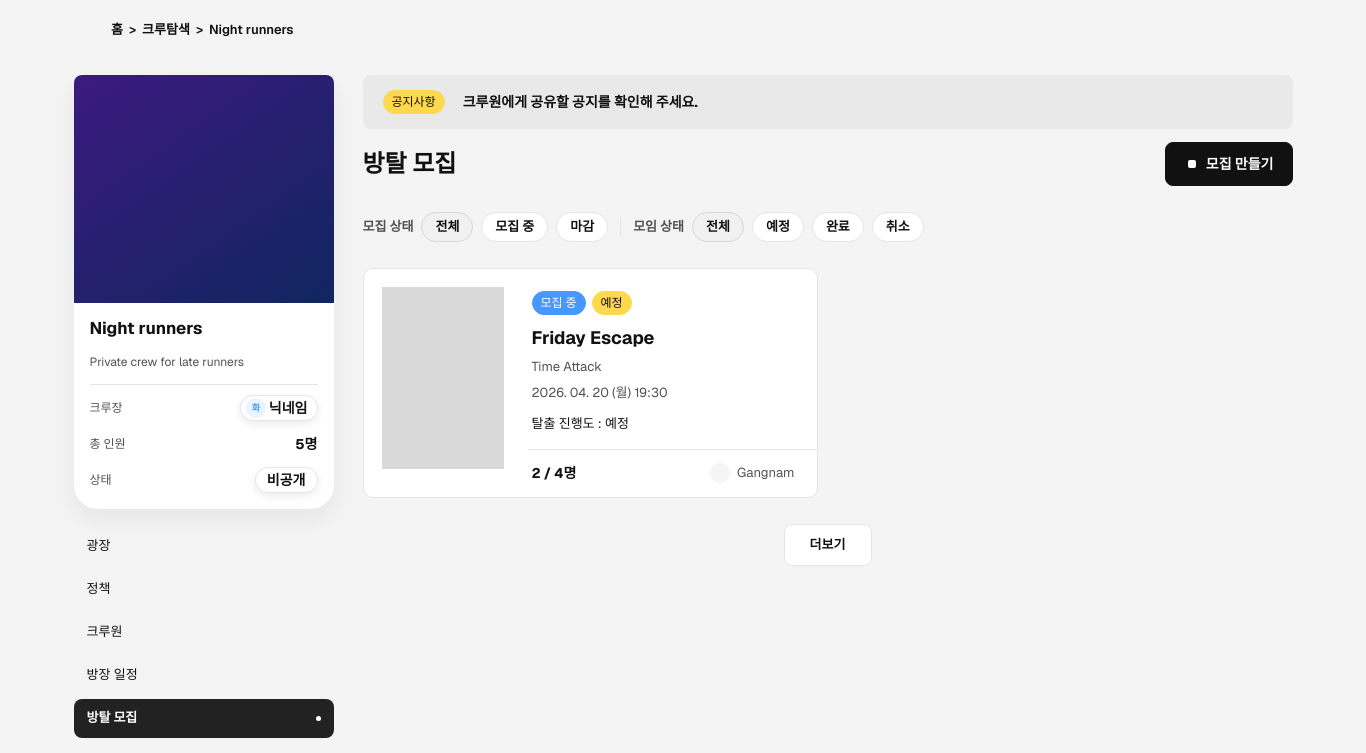
MeetingsPage › loads the next meeting page and keeps the existing items
The image size is (1366, 753).
Expected: the link "Friday Escape" is shown, [532, 326, 654, 349]
Click the button "더보기" at (828, 545), box [784, 524, 872, 566]
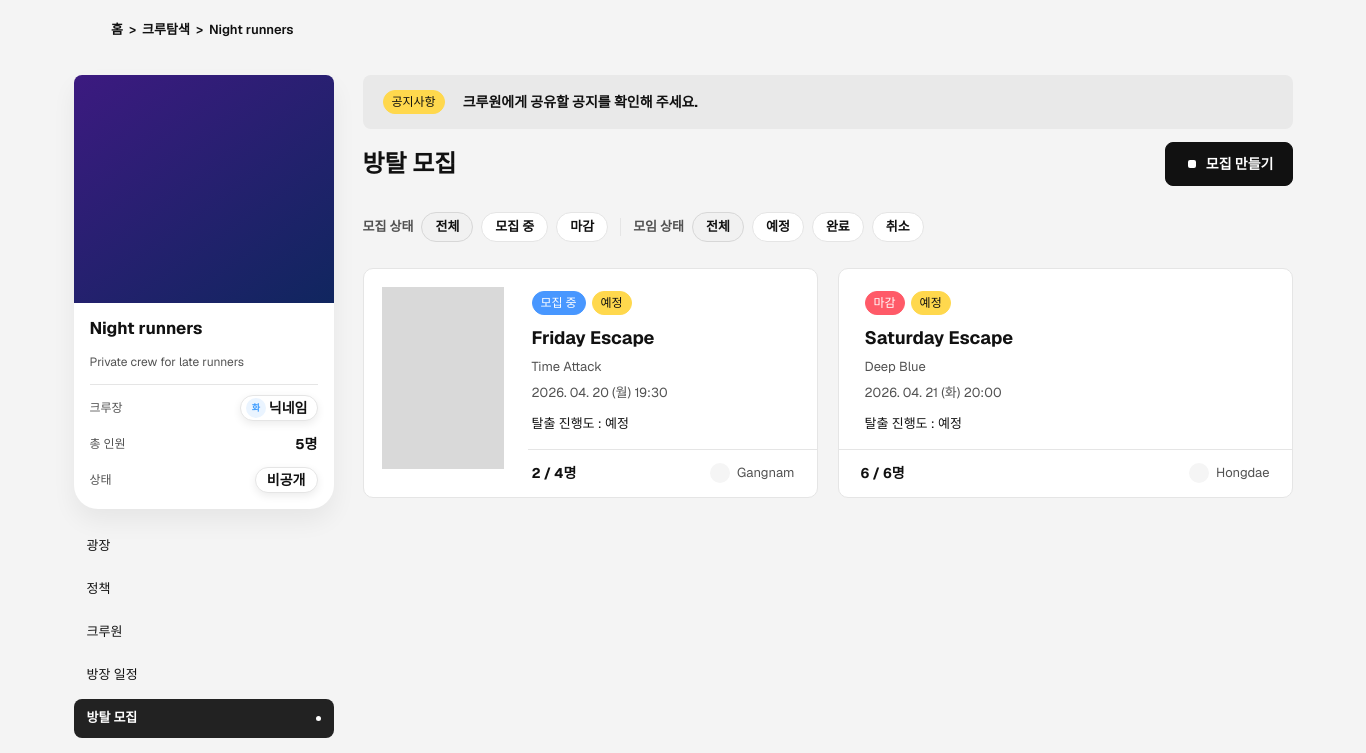
Expected: the link "Friday Escape" is shown, [532, 326, 654, 349]
Expected: the link "Saturday Escape" is shown, [864, 326, 1013, 349]
